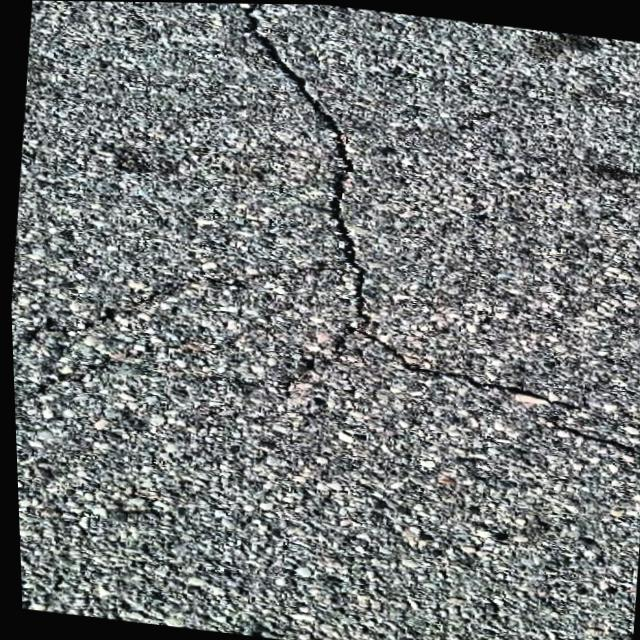cracks: (243, 4, 365, 317)
